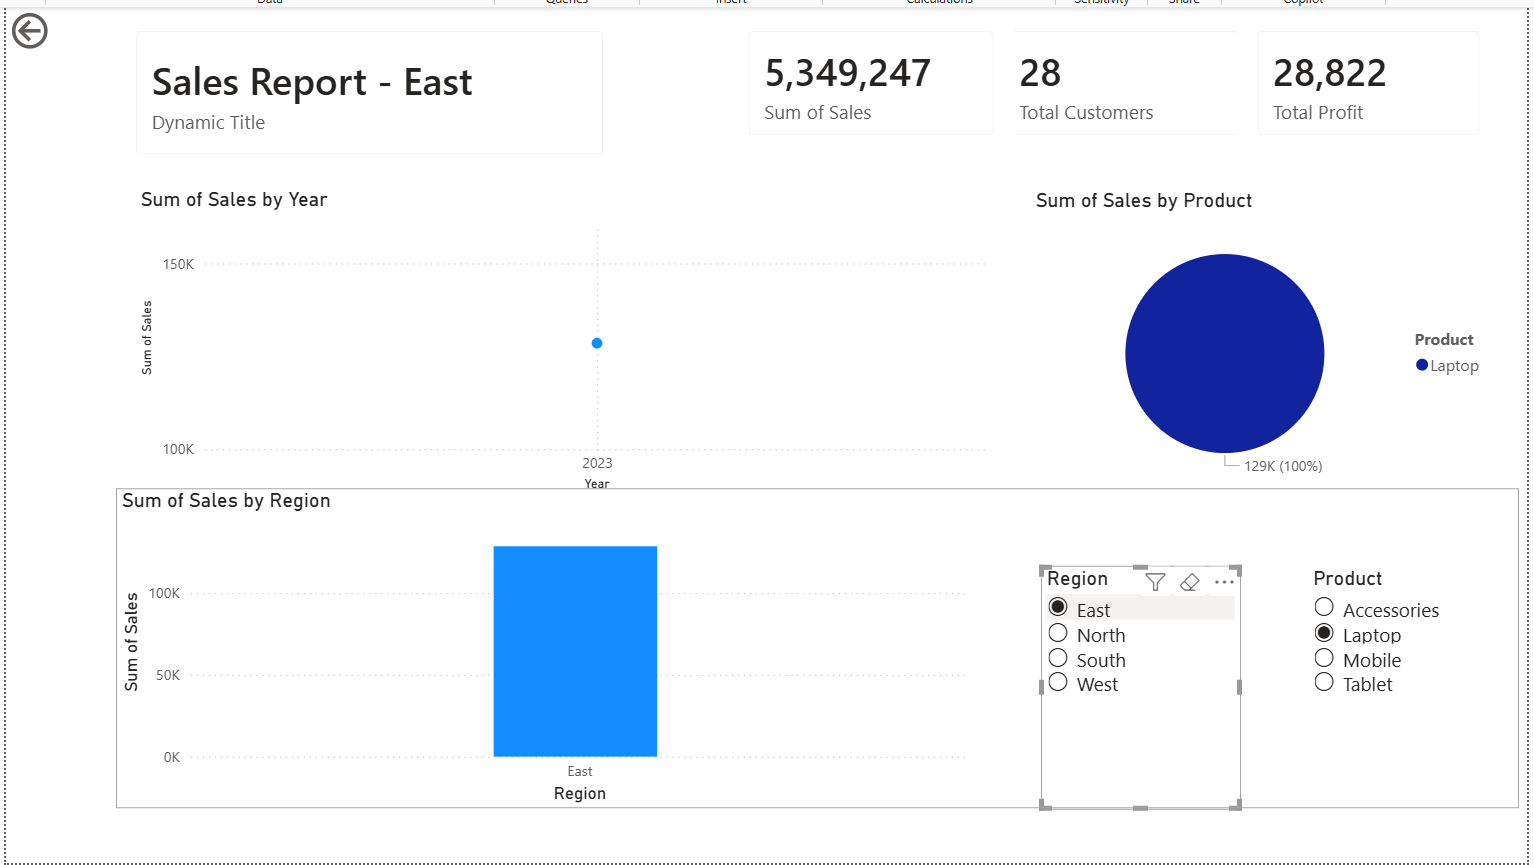

The dashboard page shown, as its layout file describes it:
{"tool":"powerbi","page":{"name":"Page 1","canvas":[1280,720],"ordinal":0},"visuals":[{"type":"actionButton","box":[0,0,100,40],"z":0},{"type":"cardVisual","fields":{"Data":["power_bi_sales_dataset.Total Customers"]},"box":[822.2,3.5,232.3,122.1],"z":0,"group":"g3"},{"type":"lineChart","fields":{"Y":["Sum(power_bi_sales_dataset.Sales)"],"Category":["power_bi_sales_dataset.Date.Variation.Date Hierarchy.Year","power_bi_sales_dataset.Date.Variation.Date Hierarchy.Quarter","power_bi_sales_dataset.Date.Variation.Date Hierarchy.Month","power_bi_sales_dataset.Date.Variation.Date Hierarchy.Day"]},"box":[108.1,151.2,723.3,260.5],"z":0,"group":"g1"},{"type":"cardVisual","fields":{"Data":["power_bi_sales_dataset.Total Profit"]},"box":[1036.6,3.5,221.5,122.1],"z":1000,"group":"g3"},{"type":"clusteredColumnChart","fields":{"Category":["power_bi_sales_dataset.Region"],"Y":["Sum(power_bi_sales_dataset.Sales)"]},"box":[93,404.7,722.1,269.8],"z":1000,"group":"g2"},{"type":"cardVisual","fields":{"Data":["Min(power_bi_sales_dataset.Total Sales)"]},"box":[607.9,3.5,240.7,122.1],"z":2000,"group":"g3"},{"type":"group","id":"g1","title":"Group 2","box":[108.1,151.2,1150,260.5],"z":2000},{"type":"pieChart","fields":{"Category":["power_bi_sales_dataset.Product"],"Y":["Sum(power_bi_sales_dataset.Sales)"]},"box":[860.4,151.8,397.7,259.3],"z":2000,"group":"g1"},{"type":"group","id":"g2","title":"Group 3","box":[93,404.7,1180.2,269.8],"z":3000},{"type":"listSlicer","fields":{"Values":["power_bi_sales_dataset.Product"]},"box":[1095.3,469.8,177.9,204.7],"z":4000,"group":"g2"},{"type":"listSlicer","fields":{"Values":["power_bi_sales_dataset.Region"]},"box":[870.9,469.8,168.6,204.7],"z":5000,"group":"g2"},{"type":"cardVisual","fields":{"Data":["power_bi_sales_dataset.Dynamic Title"]},"box":[93,3.5,427.5,138.4],"z":5005,"group":"g3"},{"type":"group","id":"g3","title":"Group 1","box":[93,3.5,1165.1,138.4],"z":5006}]}

Visuals, with their boxes on the page's 1280x720 design canvas (x1, y1, x2, y2). These are canvas units, not pixel positions in the 1534x865 screenshot, which may show the page scaled, cropped or inside an application window:
actionButton: 0 0 100 40
cardVisual - power_bi_sales_dataset.Total Customers: 822 4 1054 126
lineChart - Sum(power_bi_sales_dataset.Sales) x power_bi_sales_dataset.Date.Variation.Date Hierarchy.Year: 108 151 831 412
cardVisual - power_bi_sales_dataset.Total Profit: 1037 4 1258 126
clusteredColumnChart - power_bi_sales_dataset.Region x Sum(power_bi_sales_dataset.Sales): 93 405 815 674
cardVisual - Min(power_bi_sales_dataset.Total Sales): 608 4 849 126
"Group 2" group: 108 151 1258 412
pieChart - power_bi_sales_dataset.Product x Sum(power_bi_sales_dataset.Sales): 860 152 1258 411
"Group 3" group: 93 405 1273 674
listSlicer - power_bi_sales_dataset.Product: 1095 470 1273 674
listSlicer - power_bi_sales_dataset.Region: 871 470 1040 674
cardVisual - power_bi_sales_dataset.Dynamic Title: 93 4 520 142
"Group 1" group: 93 4 1258 142
